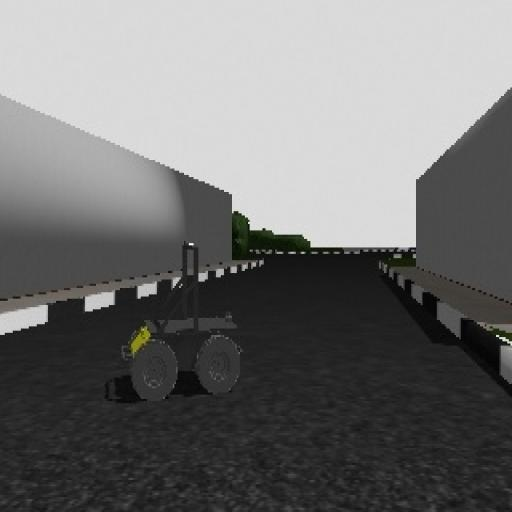huskya200: (114, 229, 250, 433)
